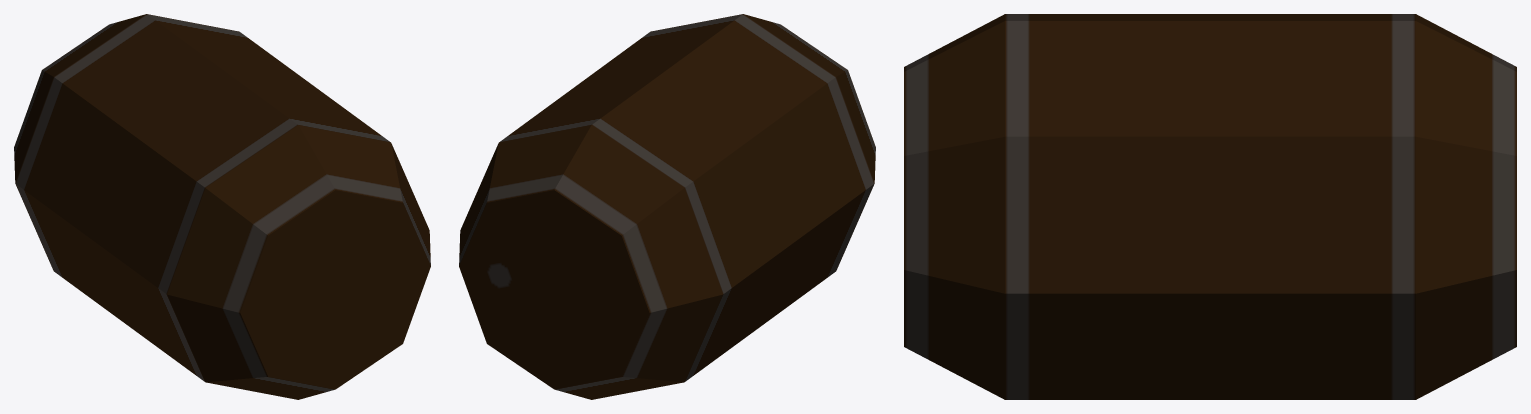
File: barrel.fbx
3 renders of one model, left to right at view 1: azimuth 30°, elevation 25°; view 2: azimuth 150°, elevation 25°; view 3: azimuth 270°, elevation 25°, orthographic. The views are drawn at different scales.
Visible parts, largest first — view 1: Cylinder; view 2: Cylinder; view 3: Cylinder.
Part boxes in pixels (left/top/right/bottom): Cylinder: left=14, top=14, right=430, bottom=399; Cylinder: left=459, top=14, right=875, bottom=399; Cylinder: left=904, top=14, right=1516, bottom=399.
Bounding box in the file's own units: 100 × 100 × 149.
1 material, 1 textured.
